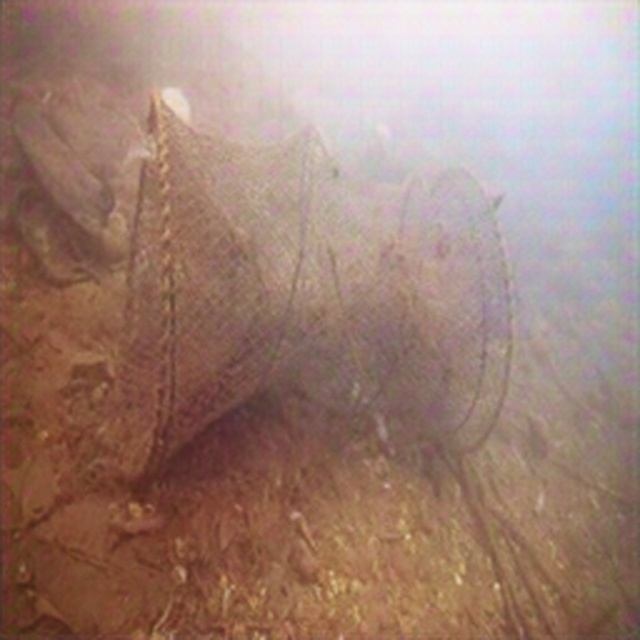mine: (118, 87, 512, 487)
